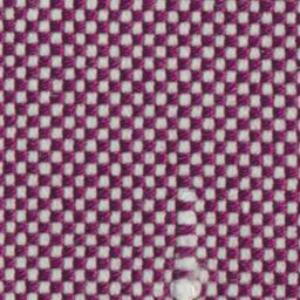defect: (167, 177, 207, 297)
